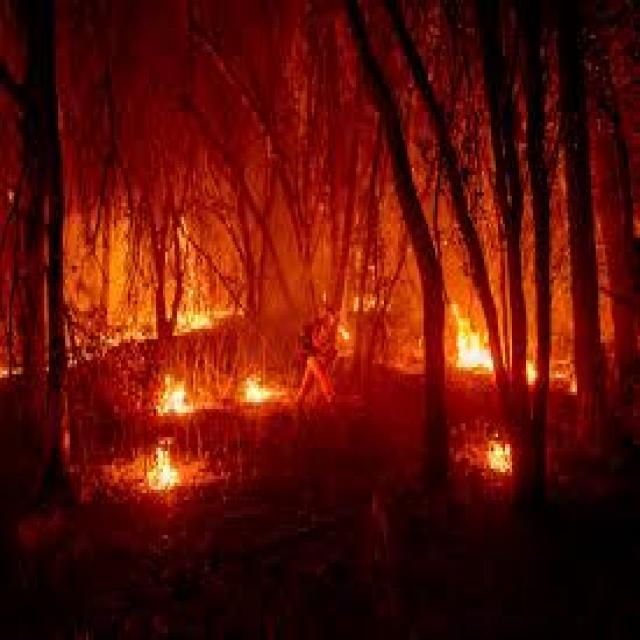fire: (150, 359, 190, 426), (461, 320, 493, 390), (241, 358, 270, 401), (148, 454, 175, 497), (487, 430, 505, 477)
